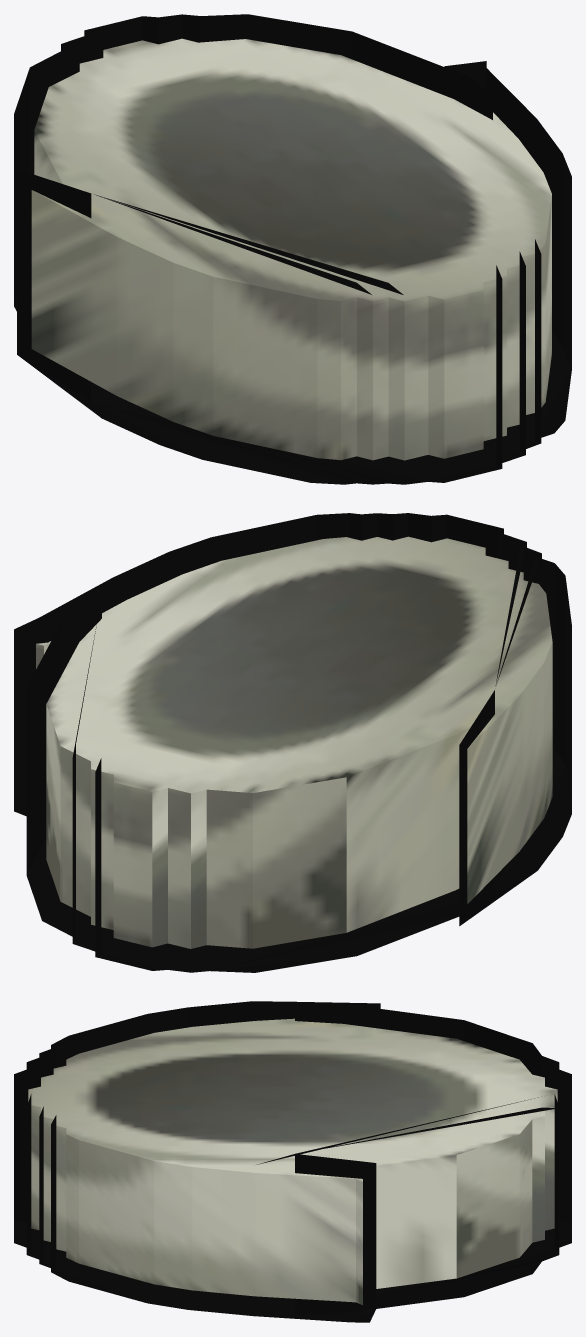
The model's file is Building_Turret_AutoMiniTurret_Things_Building_Mech_TurretMechMini_Base.glb.
3 renders of one model, top to bottom at view 1: azimuth 30°, elevation 25°; view 2: azimuth 150°, elevation 25°; view 3: azimuth 270°, elevation 25°, orthographic. The views are drawn at different scales.
Visible parts, largest first — view 1: Body, Outline; view 2: Body, Outline; view 3: Body, Outline.
Boxes of the visible parts, x1=… form: Body: x1=31, y1=38, x2=551, y2=460; Outline: x1=14, y1=14, x2=571, y2=484; Body: x1=36, y1=536, x2=552, y2=948; Outline: x1=14, y1=513, x2=571, y2=972; Body: x1=28, y1=1018, x2=557, y2=1304; Outline: x1=14, y1=1001, x2=571, y2=1322.
Bounding box in the file's own units: 0.9177 × 0.3951 × 1.24.
2 materials, 1 textured.
